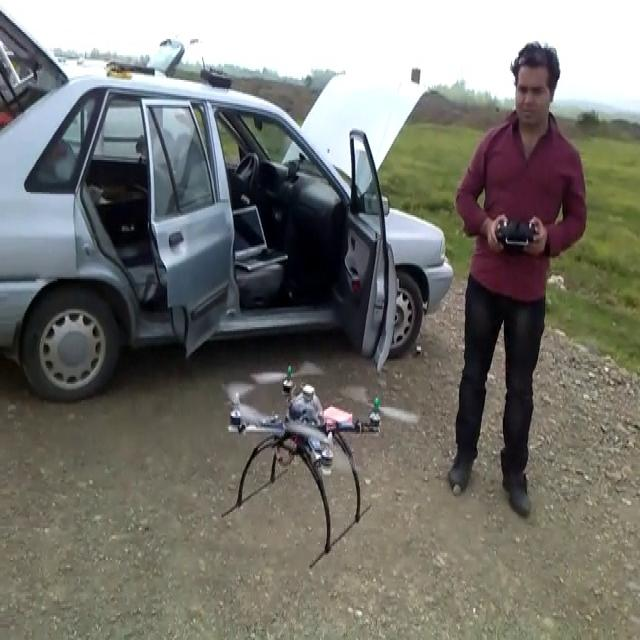drone: (214, 357, 421, 567)
